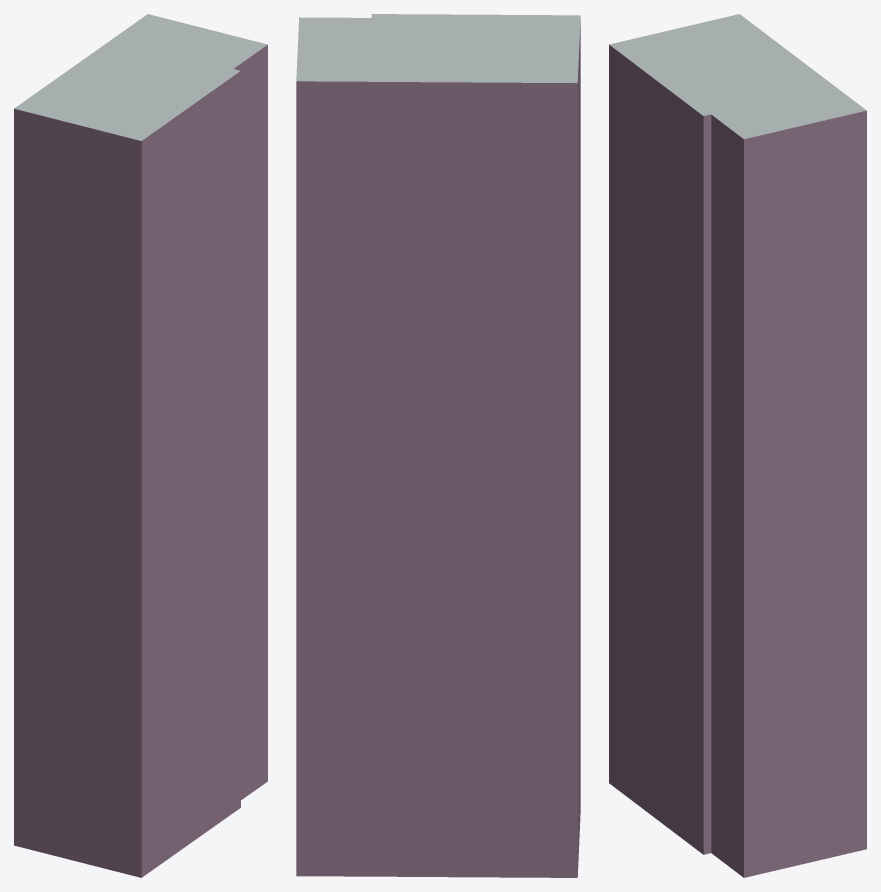
Rendered from nyc-1069581-0.glb.
3 renders of one model, left to right at view 1: azimuth 30°, elevation 25°; view 2: azimuth 150°, elevation 25°; view 3: azimuth 270°, elevation 25°, orthographic. The views are drawn at different scales.
Parts seen in each view (by area): view 1: nyc-1069581-0; view 2: nyc-1069581-0; view 3: nyc-1069581-0.
Boxes of the visible parts, <box> form: nyc-1069581-0: <box>14,14,267,877</box>; nyc-1069581-0: <box>296,14,580,877</box>; nyc-1069581-0: <box>609,14,866,877</box>.
Bounding box in the file's own units: 53.46 × 147 × 46.5.
